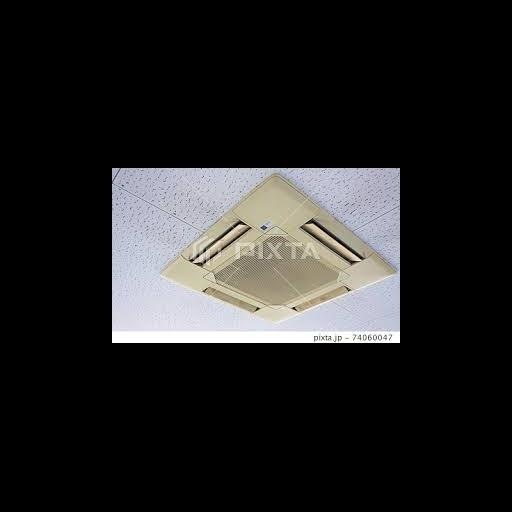4-way-ac: (165, 176, 397, 328)
